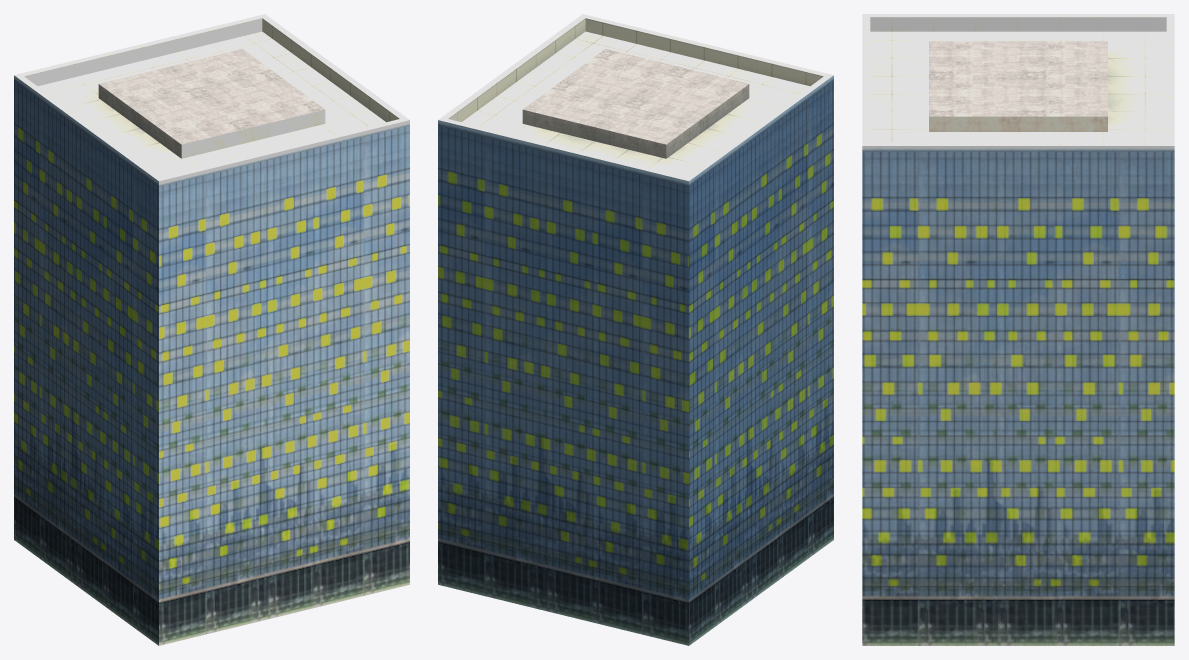
File: 1B office.obj
The picture shows the model from 3 angles, left to right: view 1: azimuth 30°, elevation 25°; view 2: azimuth 150°, elevation 25°; view 3: azimuth 270°, elevation 25°; orthographic projection. The views are drawn at different scales.
Visible parts, largest first — view 1: 1B_office; view 2: 1B_office; view 3: 1B_office.
Part boxes in pixels (bbox=[...]): 1B_office: bbox=[14, 14, 409, 645]; 1B_office: bbox=[438, 14, 833, 645]; 1B_office: bbox=[862, 14, 1174, 645].
Size of the model in its own units: 39.58 by 70.14 by 39.58.
1 material, 1 textured.
